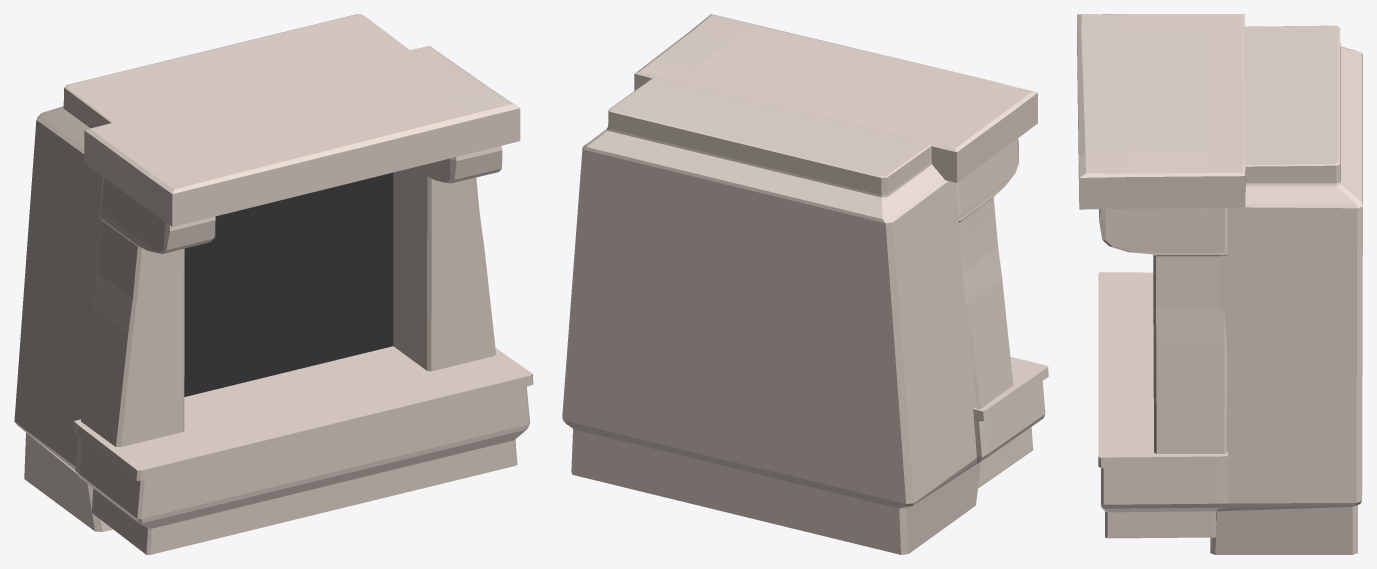
The model's file is Fire_Place.fbx.
3 renders of one model, left to right at view 1: azimuth 30°, elevation 25°; view 2: azimuth 150°, elevation 25°; view 3: azimuth 270°, elevation 25°, orthographic. The views are drawn at different scales.
Visible parts, largest first — view 1: polySurface12, polySurface13, polySurface8, polySurface11, polySurface10; view 2: polySurface11, polySurface13, polySurface8, polySurface12; view 3: polySurface11, polySurface13, polySurface12, polySurface8.
Boxes of the visible parts, bbox=[...] form: polySurface12: bbox=[73, 346, 533, 554]; polySurface13: bbox=[84, 46, 520, 226]; polySurface8: bbox=[81, 146, 502, 447]; polySurface11: bbox=[14, 14, 409, 531]; polySurface10: bbox=[184, 172, 393, 396]; polySurface11: bbox=[562, 77, 981, 554]; polySurface13: bbox=[634, 14, 1037, 182]; polySurface8: bbox=[956, 138, 1018, 409]; polySurface12: bbox=[973, 356, 1048, 488]; polySurface11: bbox=[1207, 25, 1362, 554]; polySurface13: bbox=[1077, 14, 1245, 209]; polySurface12: bbox=[1098, 272, 1227, 538]; polySurface8: bbox=[1099, 208, 1227, 453].
Size of the model in its own units: 2.21 by 2.09 by 1.43.
